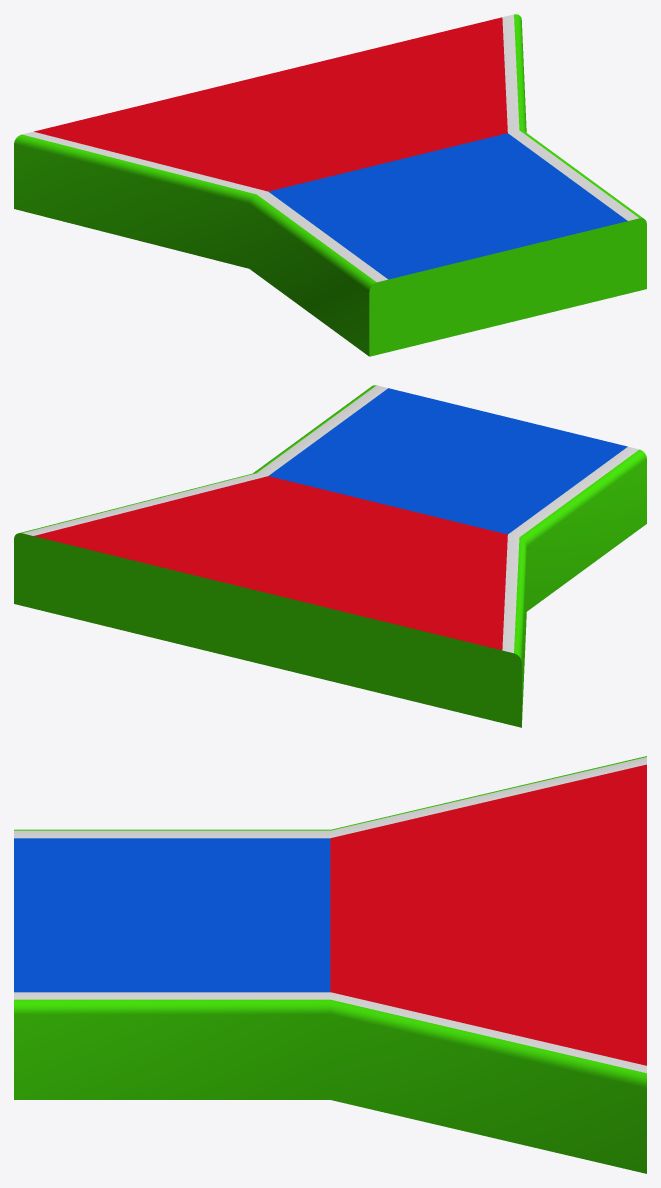
The model's file is DarYoldan_OrtaYola_Gecis.fbx.
3 views of the same model, one above another, from view 1: azimuth 30°, elevation 25°; view 2: azimuth 150°, elevation 25°; view 3: azimuth 270°, elevation 25° (orthographic). The views are drawn at different scales.
Visible parts, largest first — view 1: DarYoldan_OrtaYola_Gecis; view 2: DarYoldan_OrtaYola_Gecis; view 3: DarYoldan_OrtaYola_Gecis.
Part boxes in pixels (x1,y1,x2,y2): DarYoldan_OrtaYola_Gecis: [14, 14, 646, 356]; DarYoldan_OrtaYola_Gecis: [14, 385, 646, 727]; DarYoldan_OrtaYola_Gecis: [14, 756, 646, 1173].
Size of the model in its own units: 1098 by 150 by 900.
